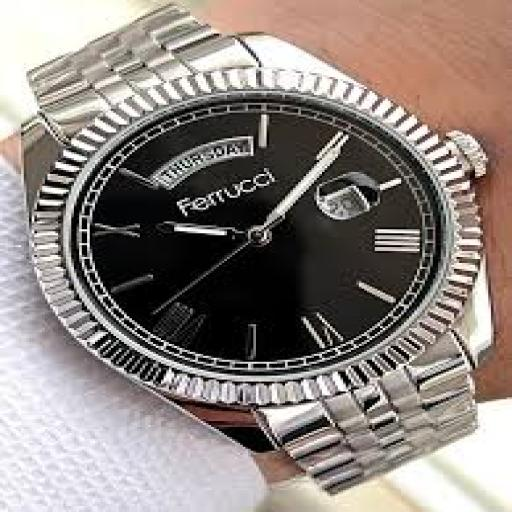KolSaati: (8, 26, 512, 476)
